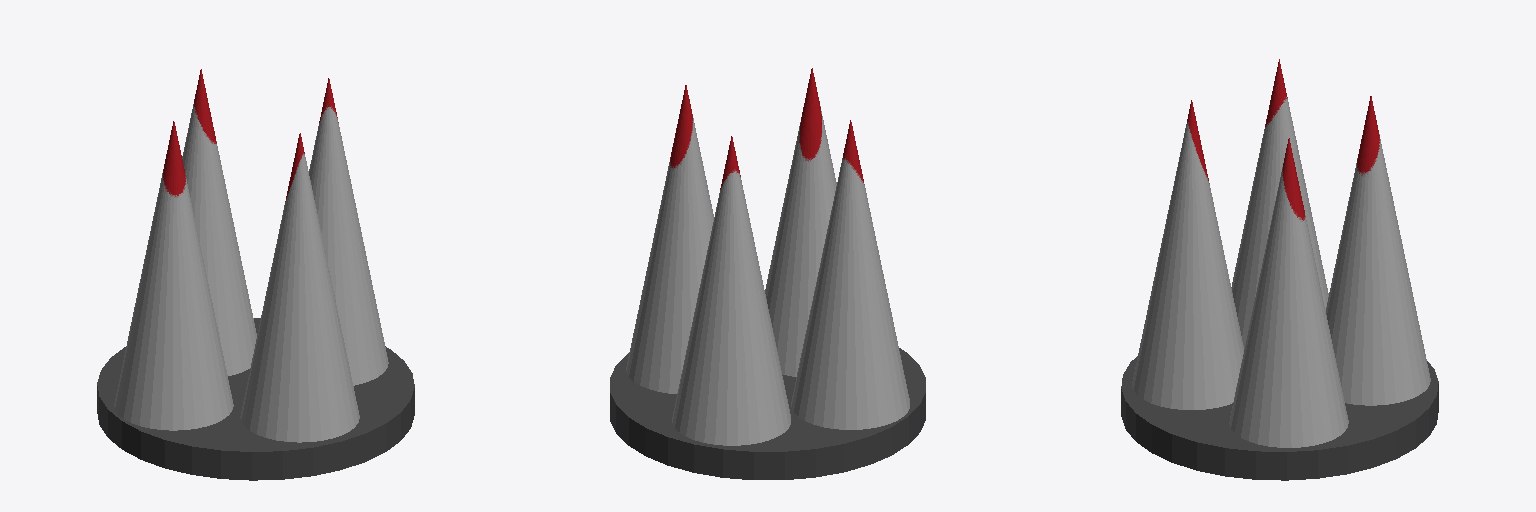
3 renders of one model, left to right at view 1: azimuth 30°, elevation 25°; view 2: azimuth 150°, elevation 25°; view 3: azimuth 270°, elevation 25°, orthographic.
Parts seen in each view (by area): view 1: 円錐; view 2: 円錐; view 3: 円錐.
Boxes of the visible parts, x1,y1,x2,y2 form: 円錐: [97, 69, 414, 480]; 円錐: [610, 68, 925, 479]; 円錐: [1121, 59, 1438, 480].
Size of the model in its own units: 1.82 by 1.99 by 1.82.
Materials: 1 (1 with a texture image).